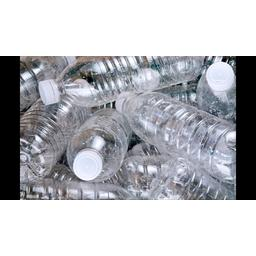plastic: (107, 81, 241, 171), (40, 54, 202, 110), (65, 99, 130, 184)
